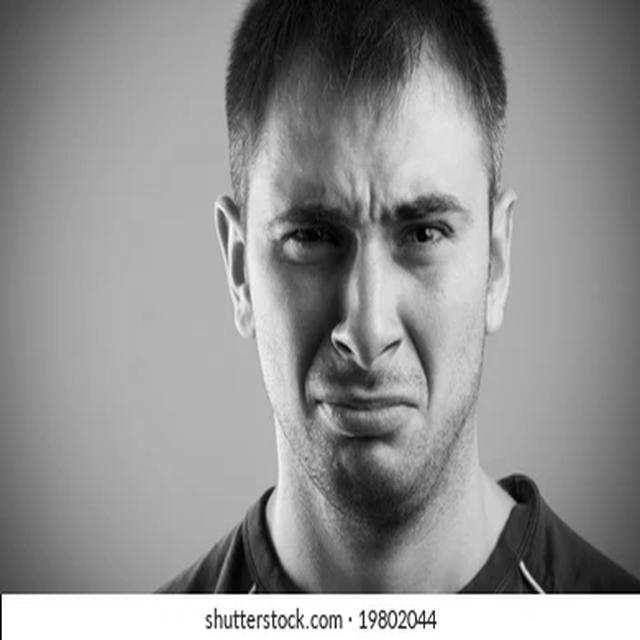Disgust: (248, 55, 490, 523)
